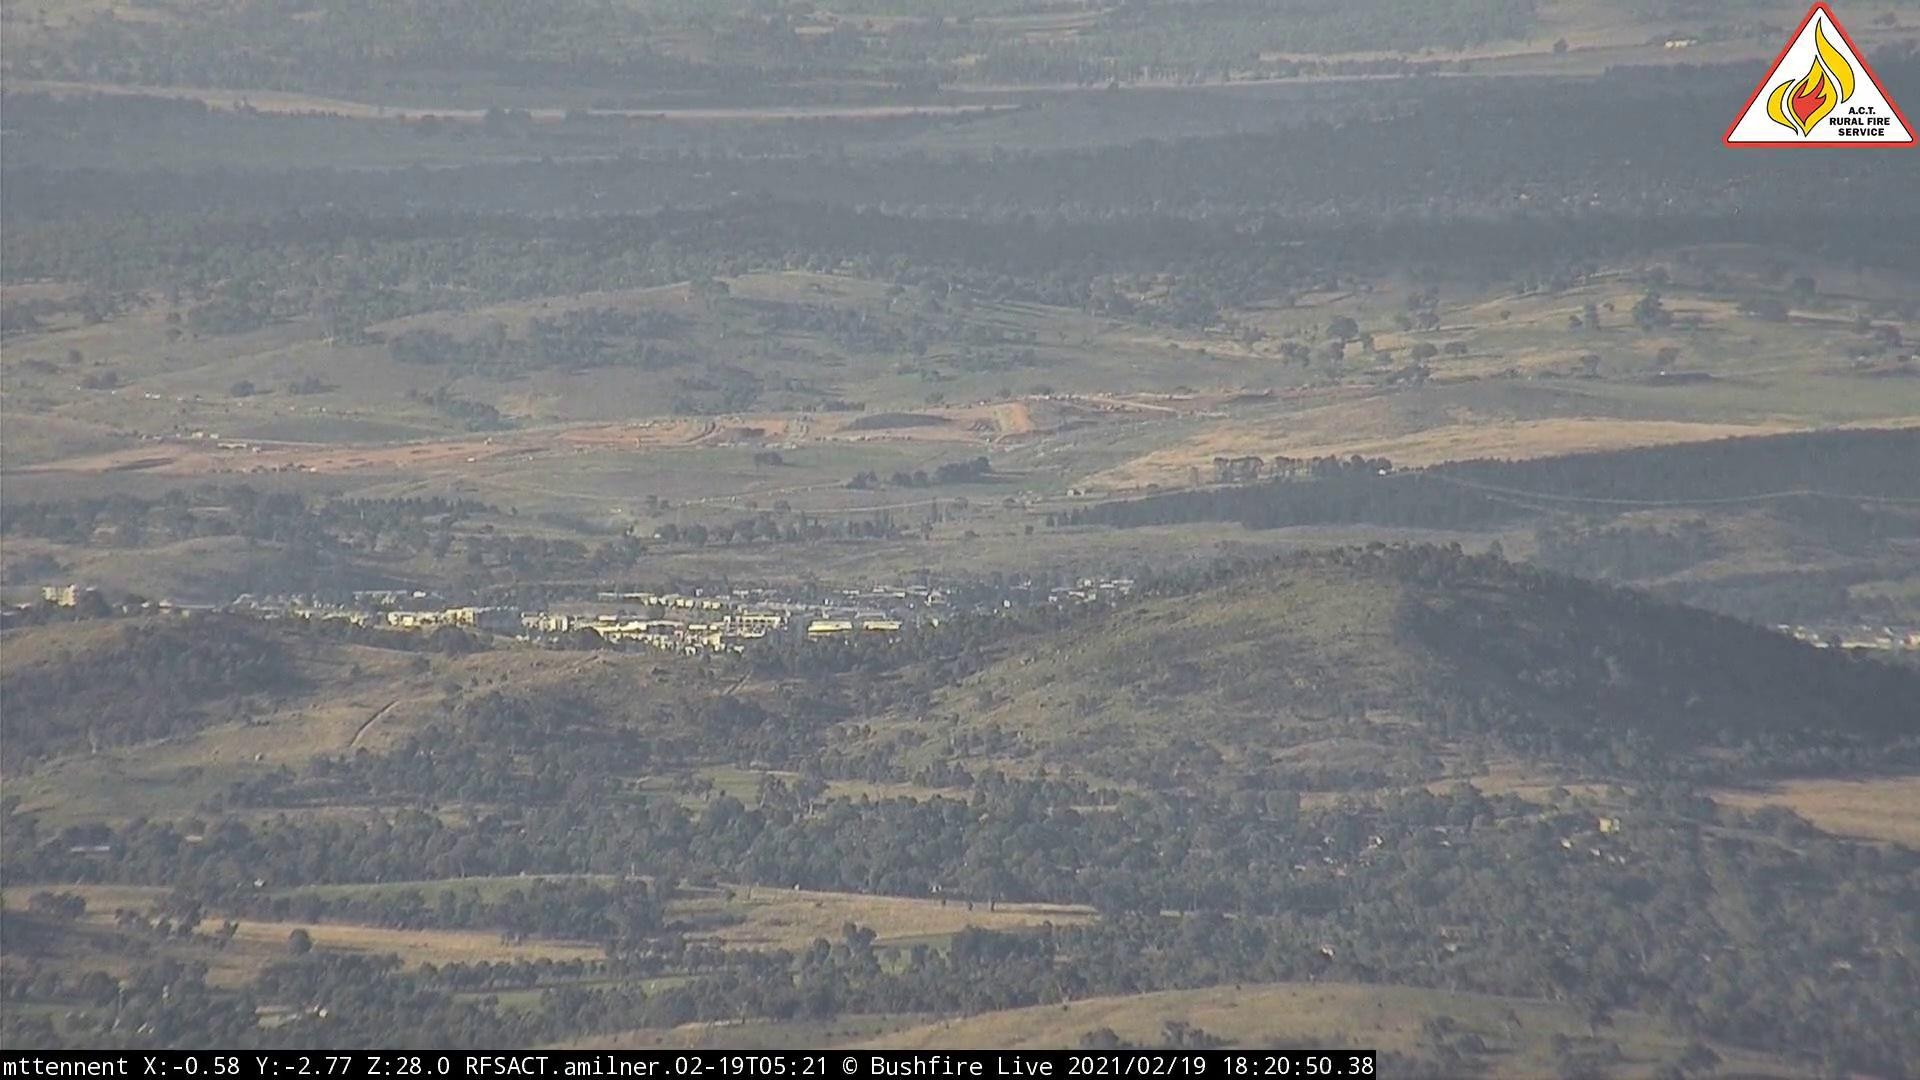instance_salient_object: (622, 520, 669, 550)
